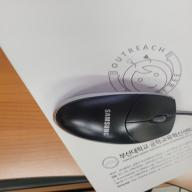mouse: (50, 91, 177, 146)
